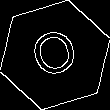O_S: (26, 24, 84, 86)
